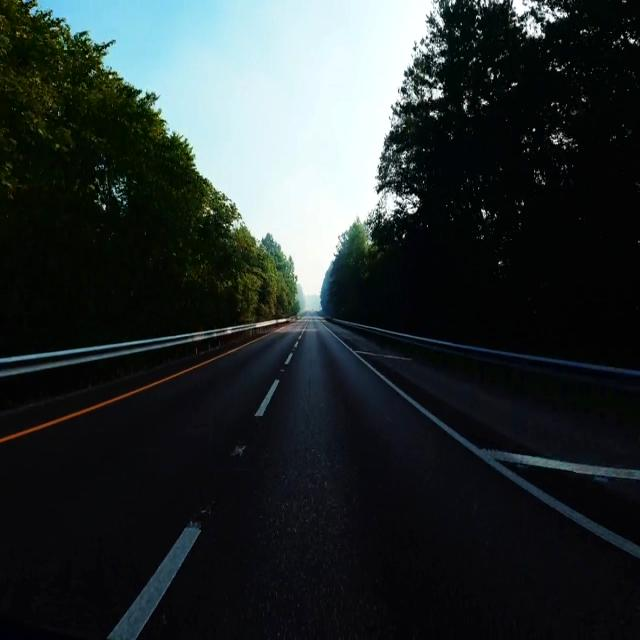road: (0, 319, 640, 637), (330, 325, 640, 468)
